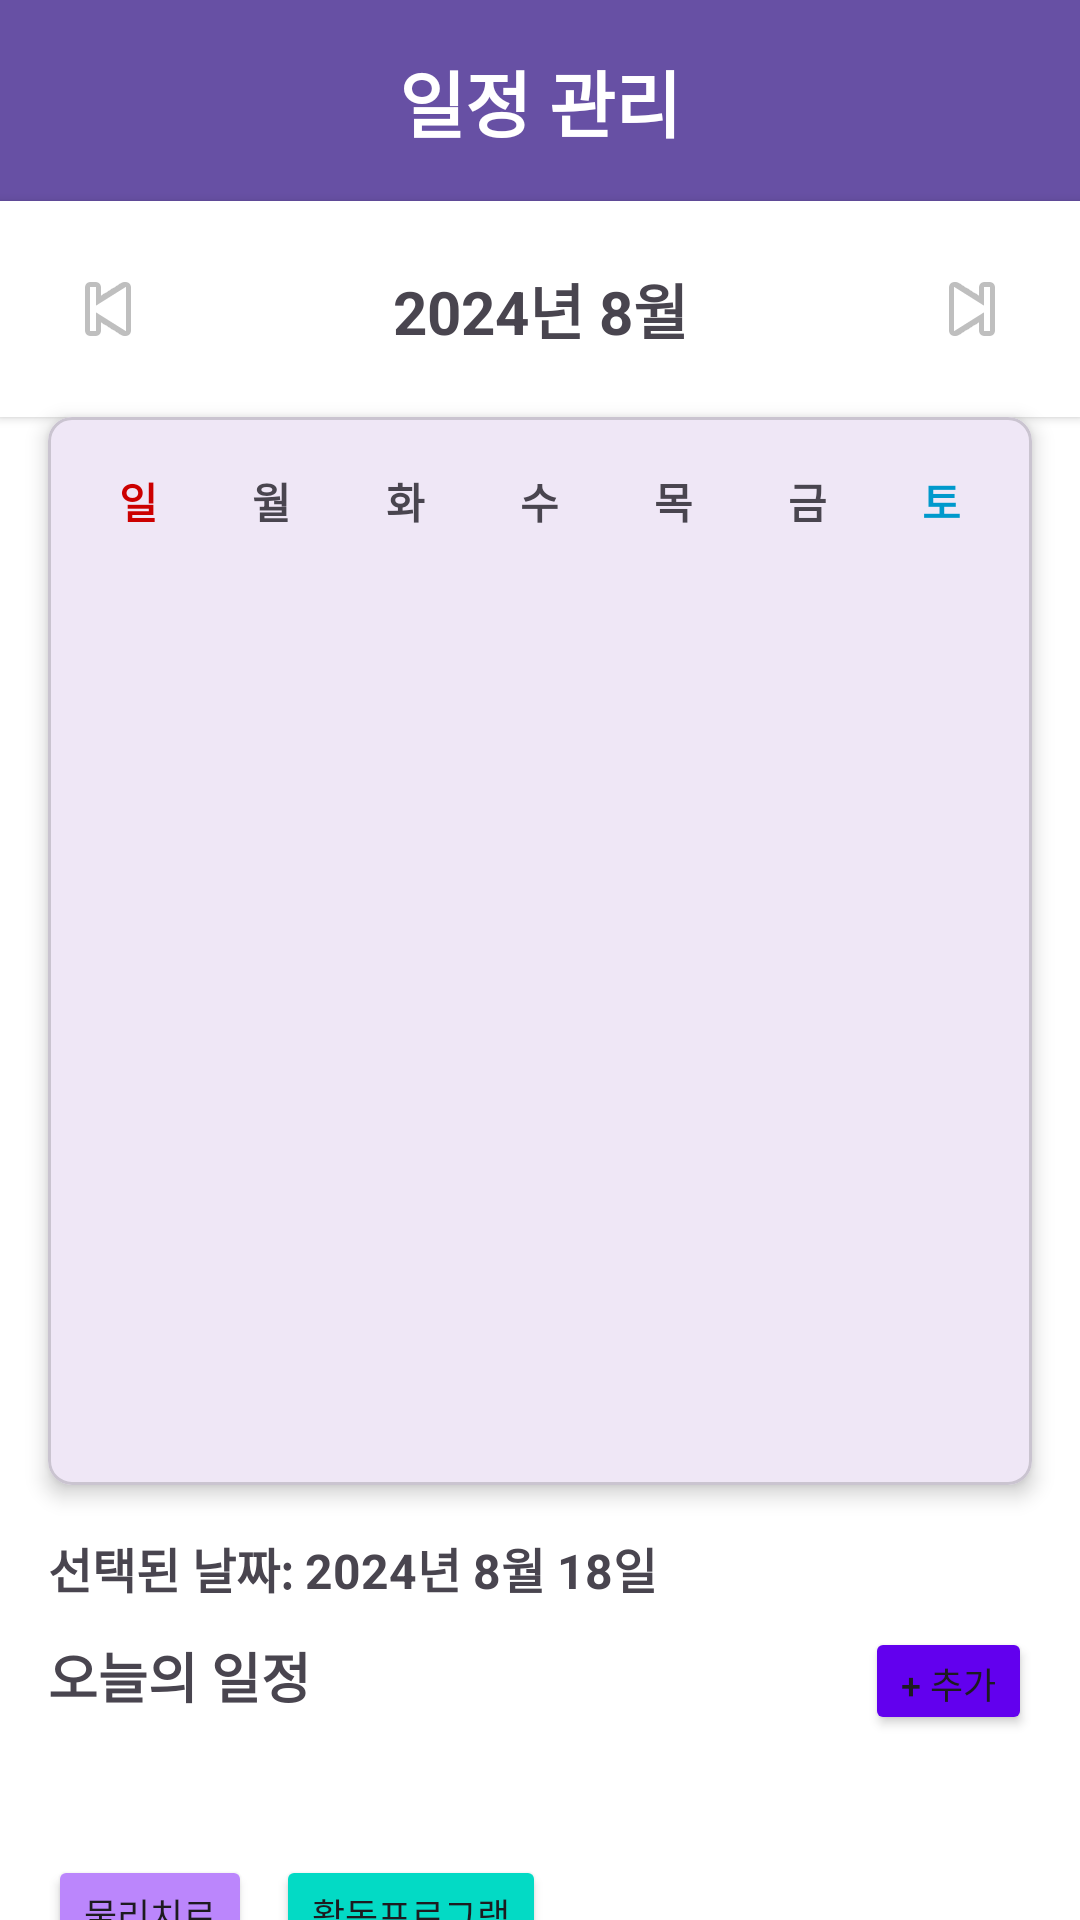

Icon click points for this 1080x1920 phone screenshot, format (x=x, y=y):
다음 달: (x=972, y=309)
이전 달: (x=108, y=309)
